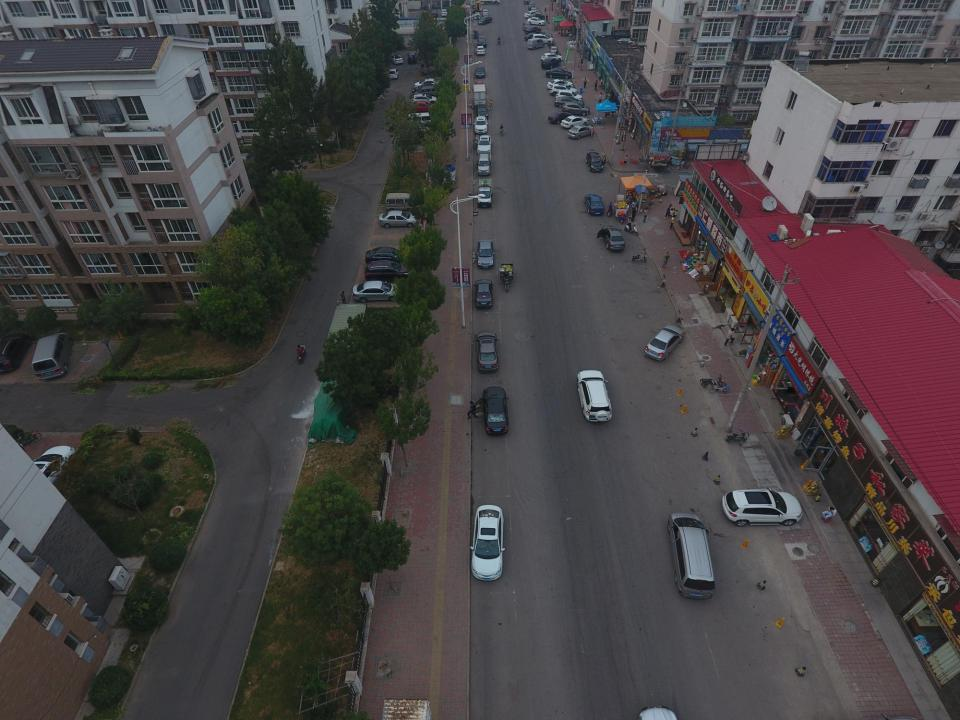car: (722, 488, 803, 526), (468, 505, 506, 581), (24, 445, 76, 491), (470, 386, 509, 435), (577, 370, 612, 422), (644, 324, 685, 361), (351, 280, 404, 303), (473, 330, 500, 373), (0, 331, 28, 371), (363, 246, 416, 266), (364, 260, 414, 280), (596, 224, 626, 252), (378, 210, 419, 228), (476, 239, 495, 270), (473, 279, 494, 307), (399, 124, 436, 139), (404, 100, 438, 116), (232, 152, 259, 170), (585, 151, 607, 172), (584, 194, 604, 215), (553, 96, 587, 108), (568, 124, 594, 139), (561, 102, 591, 115), (549, 83, 578, 96), (476, 134, 493, 156), (546, 111, 574, 124), (412, 85, 444, 96), (561, 115, 587, 128), (556, 90, 584, 102), (414, 78, 444, 89), (545, 68, 572, 80), (410, 94, 439, 105), (546, 79, 575, 89), (473, 115, 488, 134), (474, 104, 490, 120), (541, 57, 561, 68), (540, 52, 563, 61), (474, 64, 486, 79), (387, 67, 399, 80), (388, 54, 403, 64), (406, 51, 416, 62)
truck: (476, 178, 494, 208), (471, 83, 488, 107), (476, 151, 492, 176)
van: (666, 513, 715, 600), (32, 332, 74, 381), (400, 112, 441, 130), (384, 193, 421, 212), (419, 58, 446, 74)
